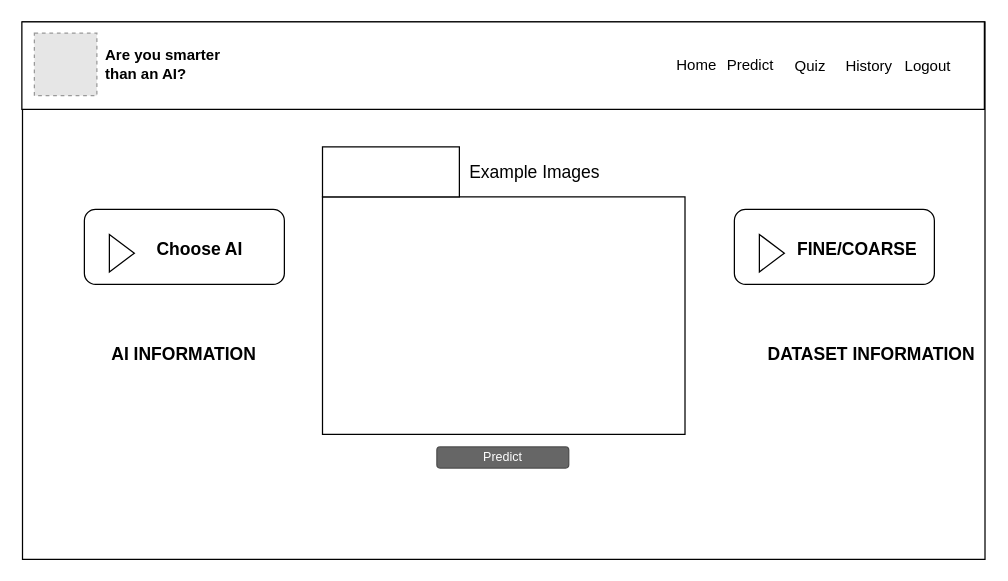
Image size: 1008x581. Some labels were removed from this diagram. Grey dashed boxes stand in for pictures. The shapes that lost their labels are listed below. From the top down, each one's centre as x and y in pixels, then its label:
point (390, 171): Choose files
point (503, 315): UPLOAD FILE
